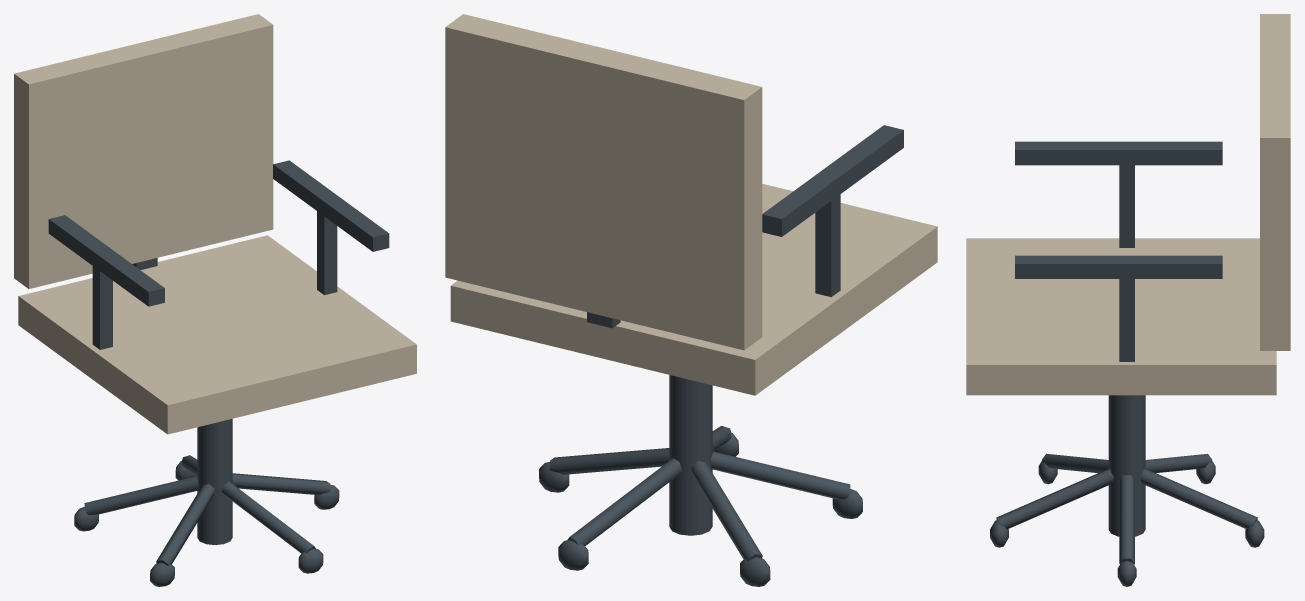
File: chair-3.glb
The picture shows the model from 3 angles, left to right: view 1: azimuth 30°, elevation 25°; view 2: azimuth 150°, elevation 25°; view 3: azimuth 270°, elevation 25°; orthographic projection. The views are drawn at different scales.
Visible parts, largest first — view 1: chair:3:editor; view 2: chair:3:editor; view 3: chair:3:editor.
Boxes of the visible parts, x1,y1,x2,y2 form: chair:3:editor: [14, 14, 416, 586]; chair:3:editor: [445, 14, 937, 586]; chair:3:editor: [966, 14, 1290, 586].
Bounding box in the file's own units: 0.535 × 0.895 × 0.58.
